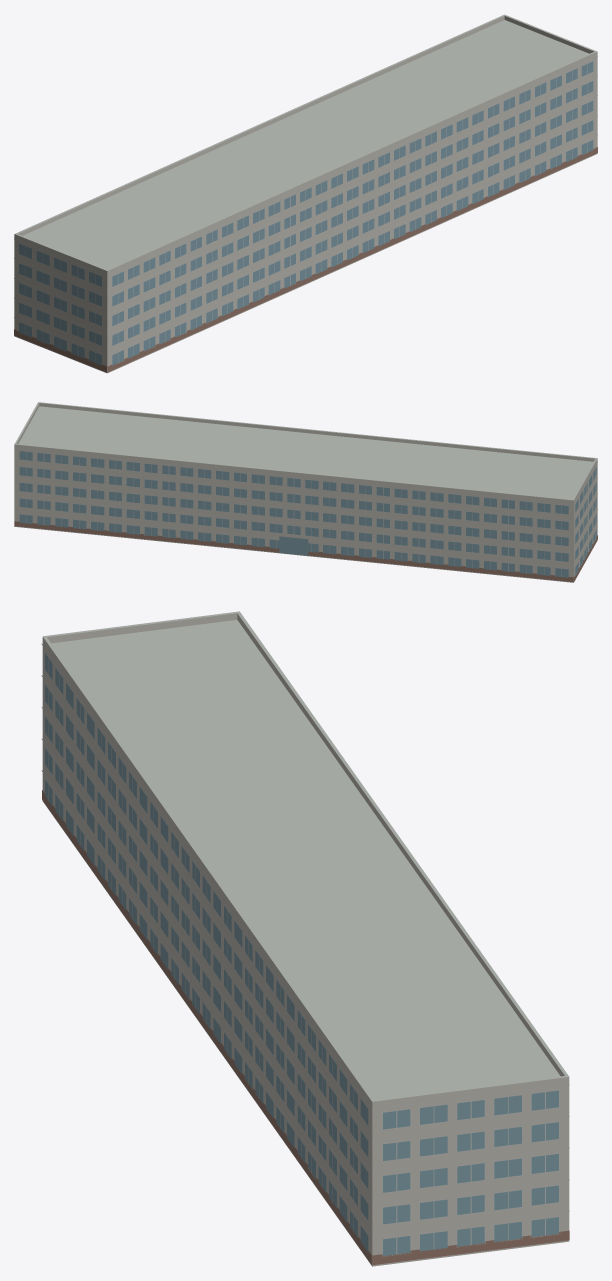
File: public-0fa8a3b4-3be4-44db-a0a5-15c509dc4f68.glb
The picture shows the model from 3 angles, top to bottom: view 1: azimuth 30°, elevation 25°; view 2: azimuth 150°, elevation 25°; view 3: azimuth 270°, elevation 25°; orthographic projection. The views are drawn at different scales.
Parts seen in each view (by area): view 1: public-0fa8a3b4-3be4-44db-a0a5-15c509dc4f68; view 2: public-0fa8a3b4-3be4-44db-a0a5-15c509dc4f68; view 3: public-0fa8a3b4-3be4-44db-a0a5-15c509dc4f68.
Part boxes in pixels (x1,y1,x2,y2): public-0fa8a3b4-3be4-44db-a0a5-15c509dc4f68: (14,14,597,373); public-0fa8a3b4-3be4-44db-a0a5-15c509dc4f68: (14,402,597,582); public-0fa8a3b4-3be4-44db-a0a5-15c509dc4f68: (41,611,569,1266).
Bounding box in the file's own units: 97.48 × 15.25 × 44.33.
